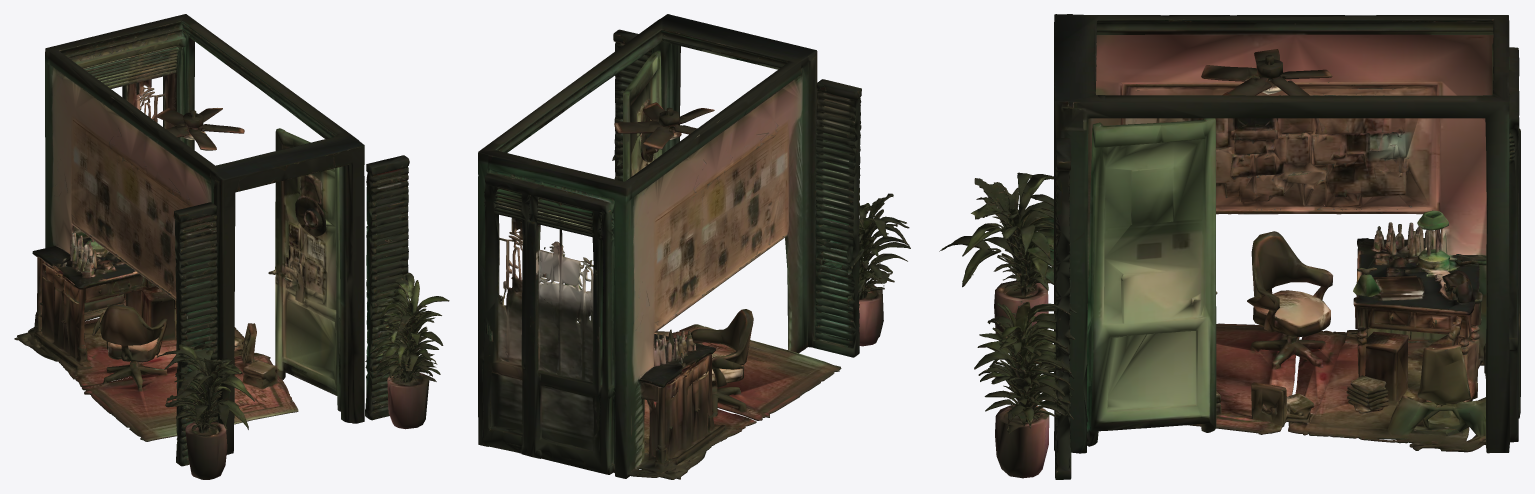
The model's file is room.glb.
The picture shows the model from 3 angles, left to right: view 1: azimuth 30°, elevation 25°; view 2: azimuth 150°, elevation 25°; view 3: azimuth 270°, elevation 25°; orthographic projection. The views are drawn at different scales.
Parts seen in each view (by area): view 1: mesh_node; view 2: mesh_node; view 3: mesh_node.
Part boxes in pixels (x1,y1,x2,y2): mesh_node: (14, 14, 449, 479); mesh_node: (478, 14, 910, 479); mesh_node: (939, 14, 1520, 479).
Size of the model in its own units: 1.37 by 1.3 by 1.94.
1 material, 1 textured.
